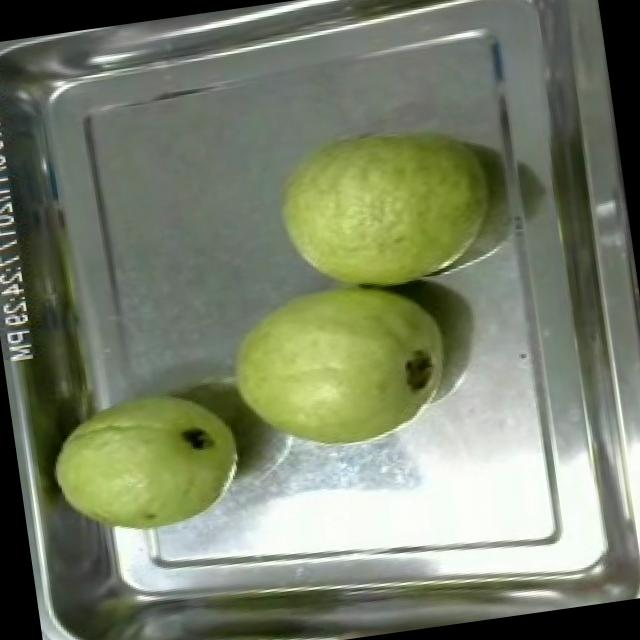Fruit: (209, 263, 469, 472), (262, 111, 510, 313), (28, 370, 260, 558)
